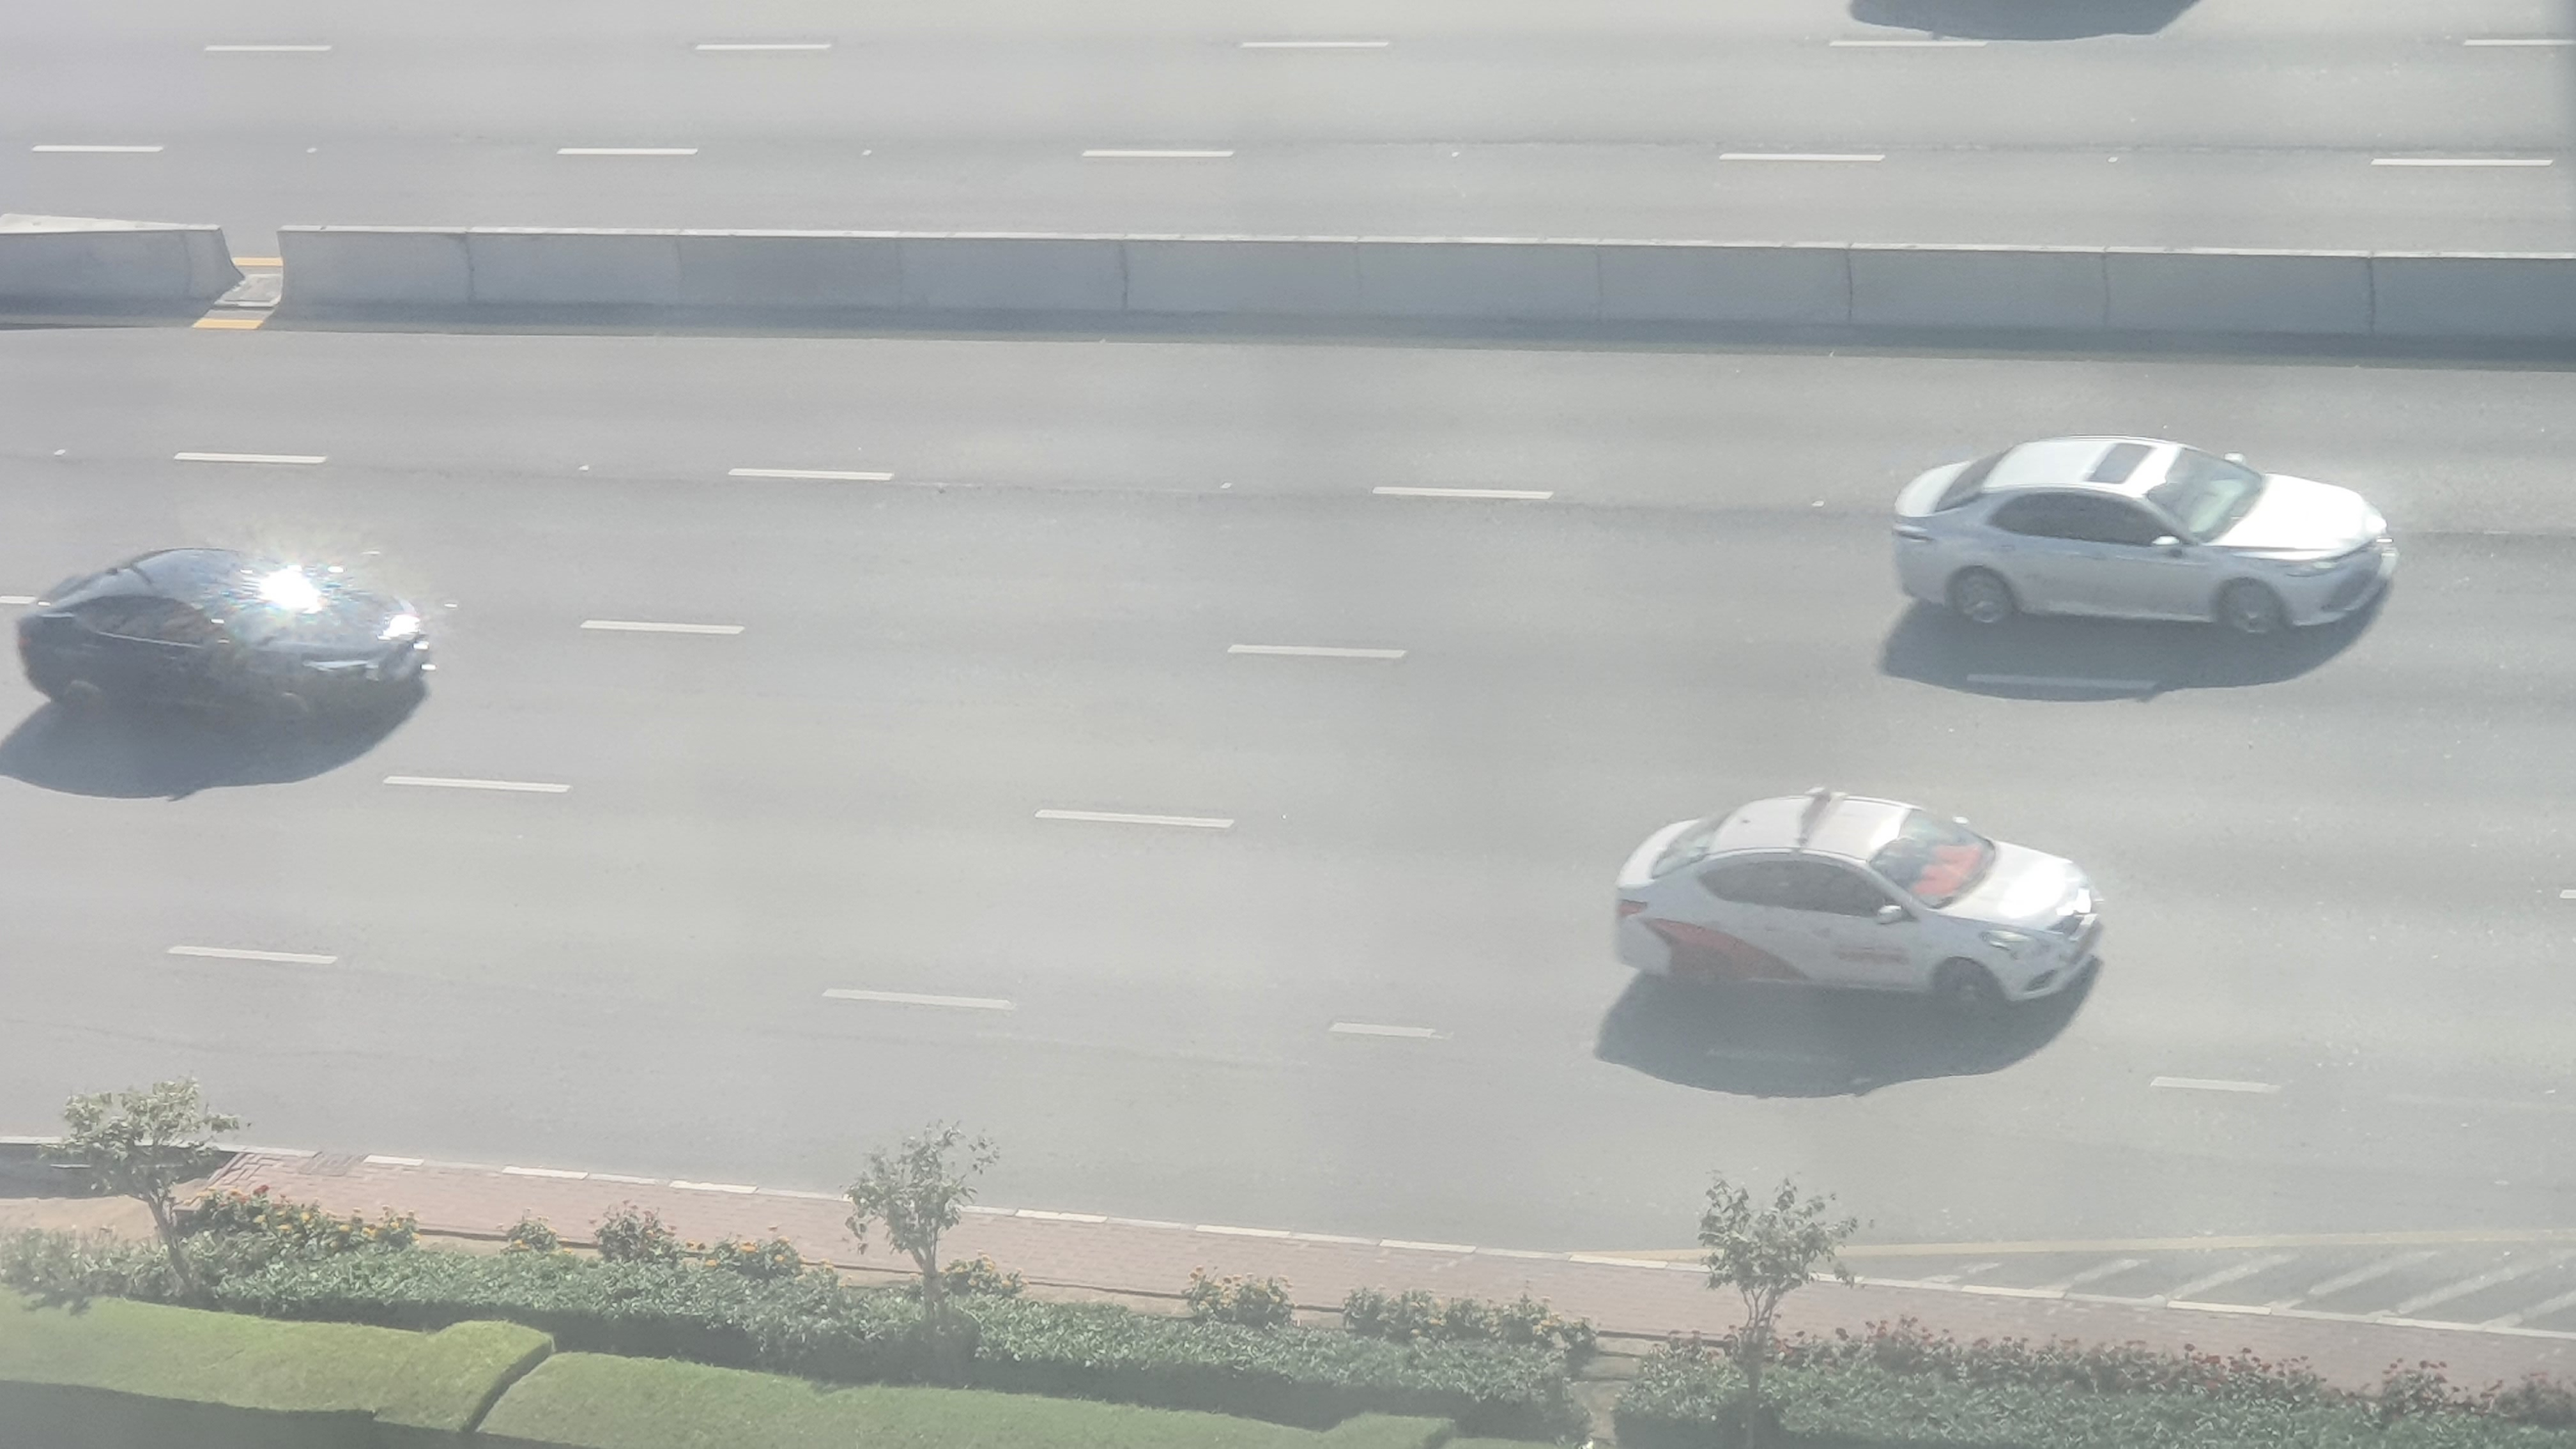NotSunroof: (1606, 789, 2107, 1017)
Sunroof: (1895, 437, 2399, 646), (14, 550, 432, 736)
